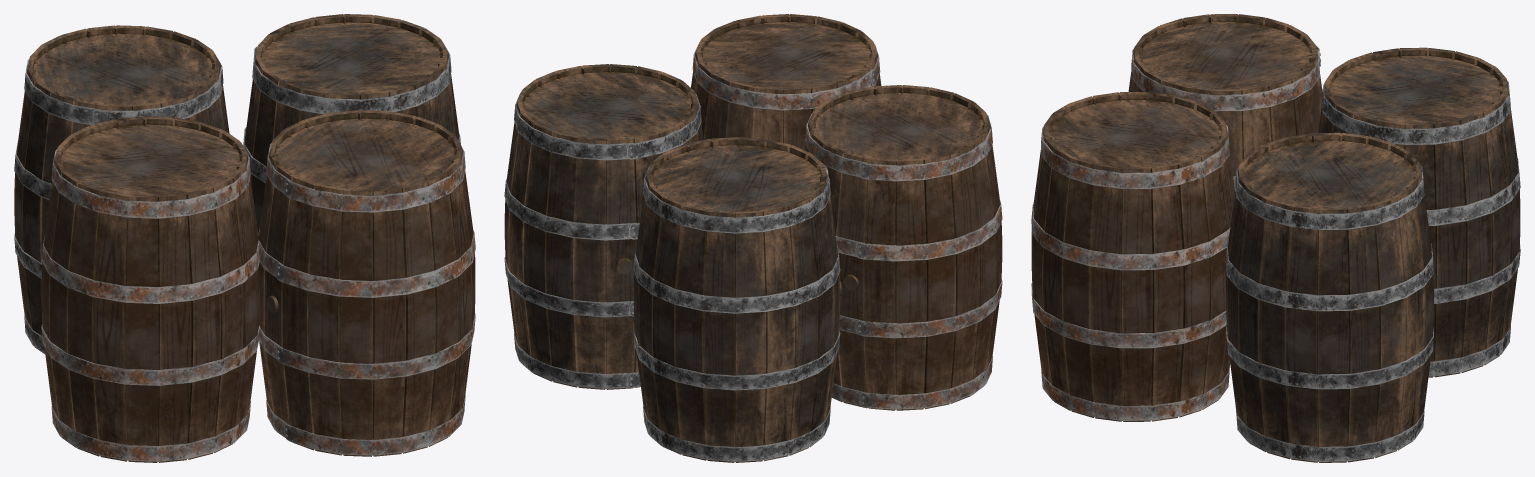
File: beczki3.gltf
The picture shows the model from 3 angles, left to right: view 1: azimuth 30°, elevation 25°; view 2: azimuth 150°, elevation 25°; view 3: azimuth 270°, elevation 25°; orthographic projection. The views are drawn at different scales.
Visible parts, largest first — view 1: SM_MERGED_StaticMeshActor_UAID_581122BC1080983702_2046590367; view 2: SM_MERGED_StaticMeshActor_UAID_581122BC1080983702_2046590367; view 3: SM_MERGED_StaticMeshActor_UAID_581122BC1080983702_2046590367.
Boxes of the visible parts, left/top/right/bottom form: SM_MERGED_StaticMeshActor_UAID_581122BC1080983702_2046590367: left=14, top=14, right=475, bottom=462; SM_MERGED_StaticMeshActor_UAID_581122BC1080983702_2046590367: left=504, top=14, right=1002, bottom=462; SM_MERGED_StaticMeshActor_UAID_581122BC1080983702_2046590367: left=1031, top=14, right=1520, bottom=462.
Size of the model in its own units: 3.1 by 1.77 by 3.1.
2 materials, 2 textured.
